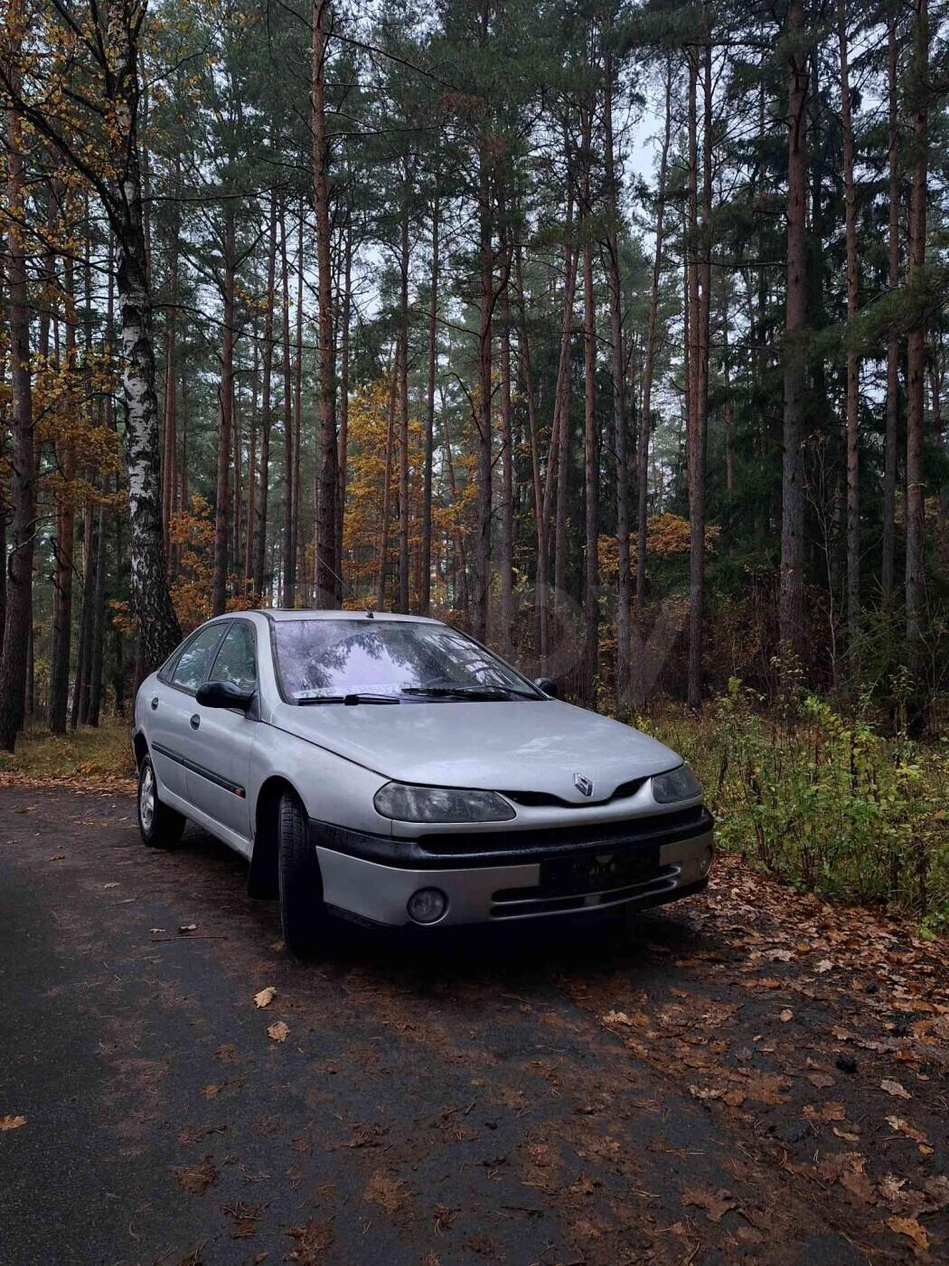Laguna_1998-2001: (130, 606, 723, 957)
